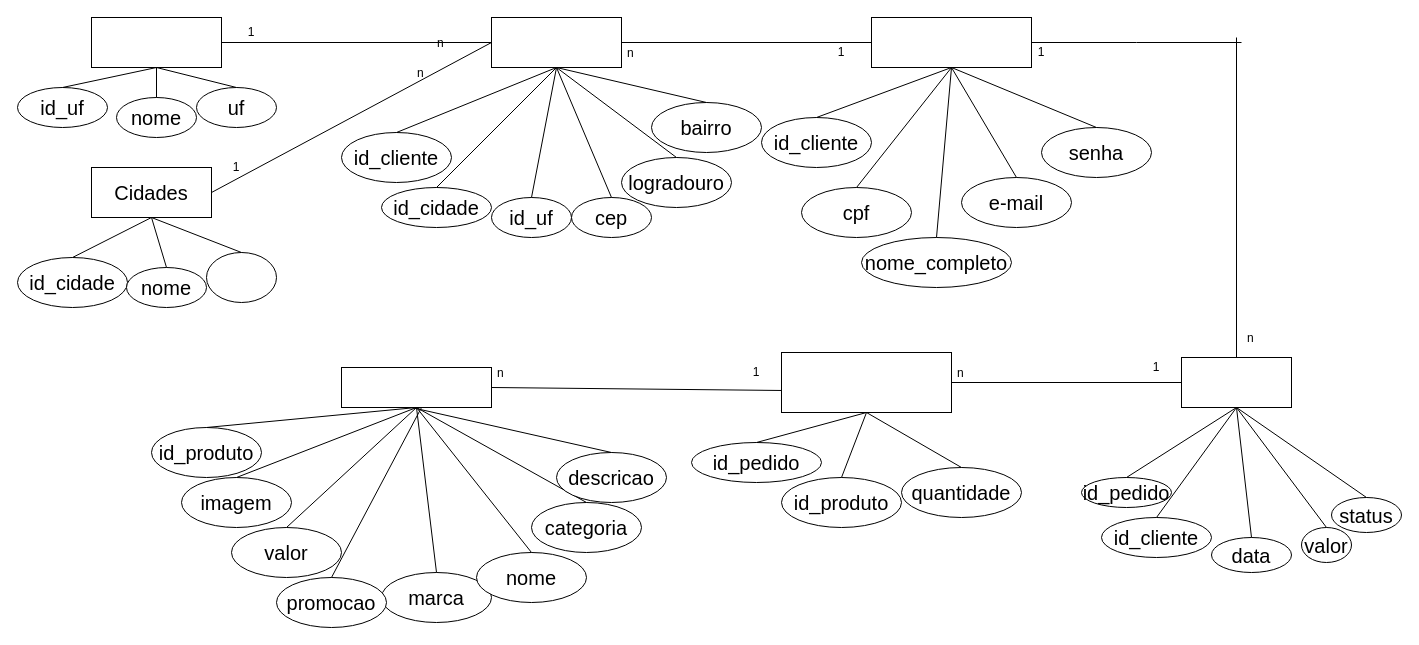
Image size: 1419x645. Some labels were removed from this diagram. Each missing label, with the centre of its shape:
cidade: the point at 241,277
Clientes: the point at 951,42
Enderecos: the point at 556,42
Estados: the point at 156,42
Itens: the point at 866,382
Pedidos: the point at 1236,382
Produtos: the point at 416,387
